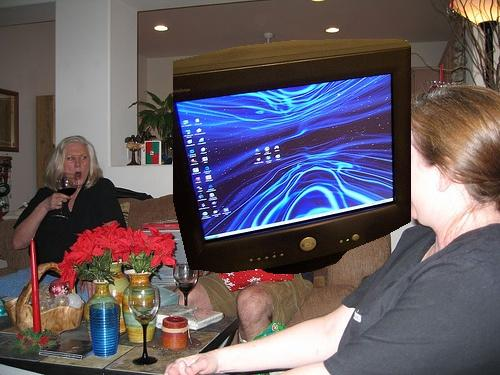tampered: (174, 40, 411, 274)
